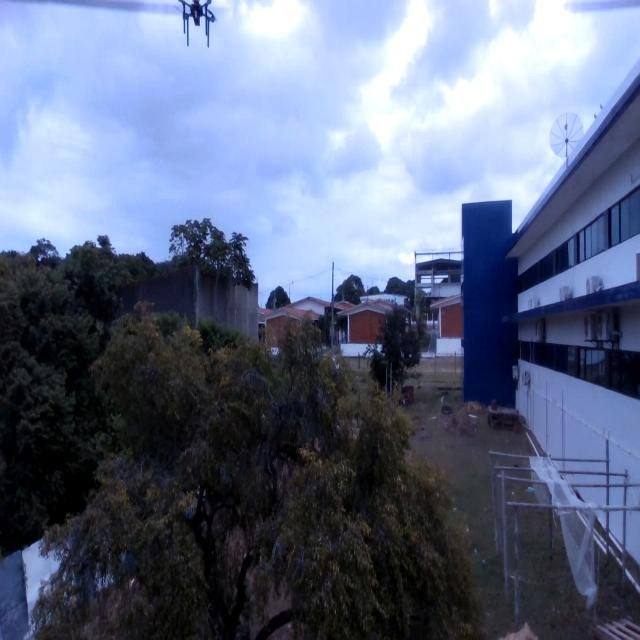-uav-: (172, 0, 220, 56)
